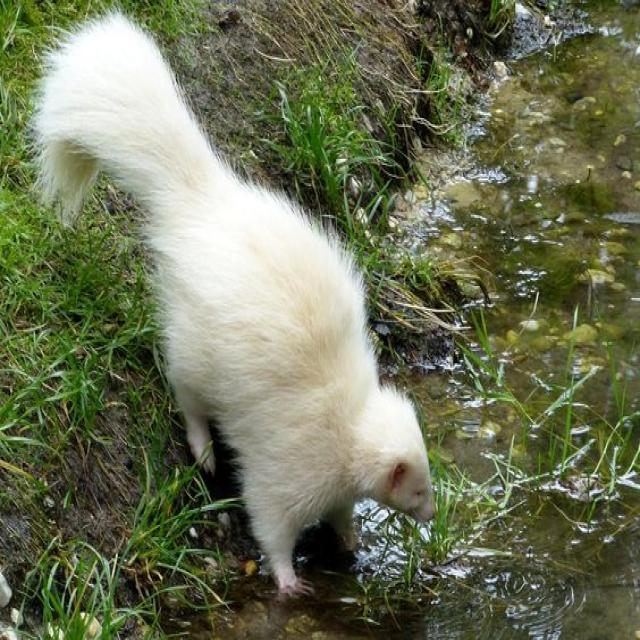Skunk: (10, 0, 440, 612)
